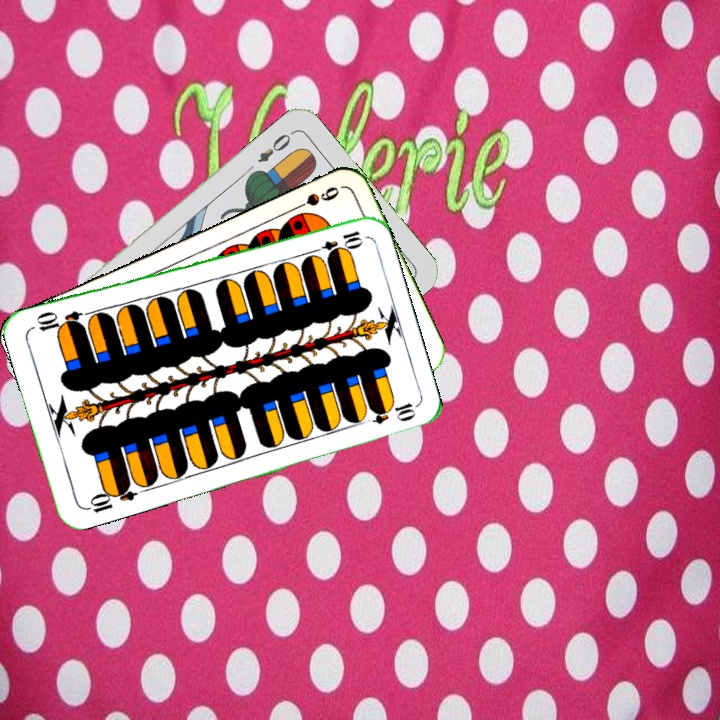E10: (81, 479, 139, 516), (307, 226, 365, 258)
EO: (253, 127, 297, 166)
S9: (287, 182, 342, 214)
